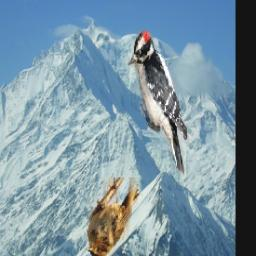Sparrow: (87, 177, 141, 256)
Woodpecker: (128, 31, 189, 175)
